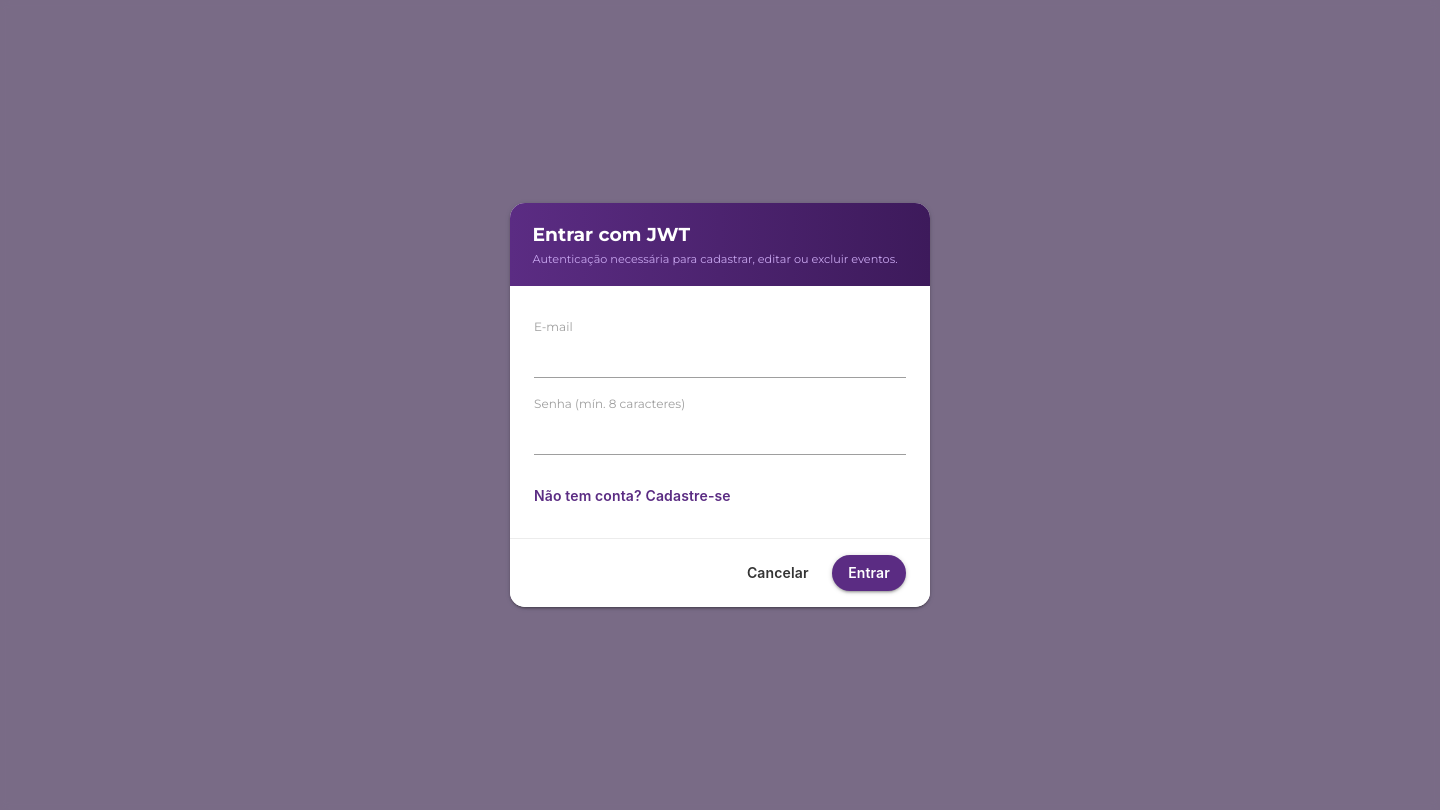
Scenario: AuthModal › exibe erro retornado pela API no login
The width and height of the screenshot is (1440, 810).
Type "lucas@ceub.edu.br" into the field labelled "E-mail" at (720, 355), box [534,332,906,378]
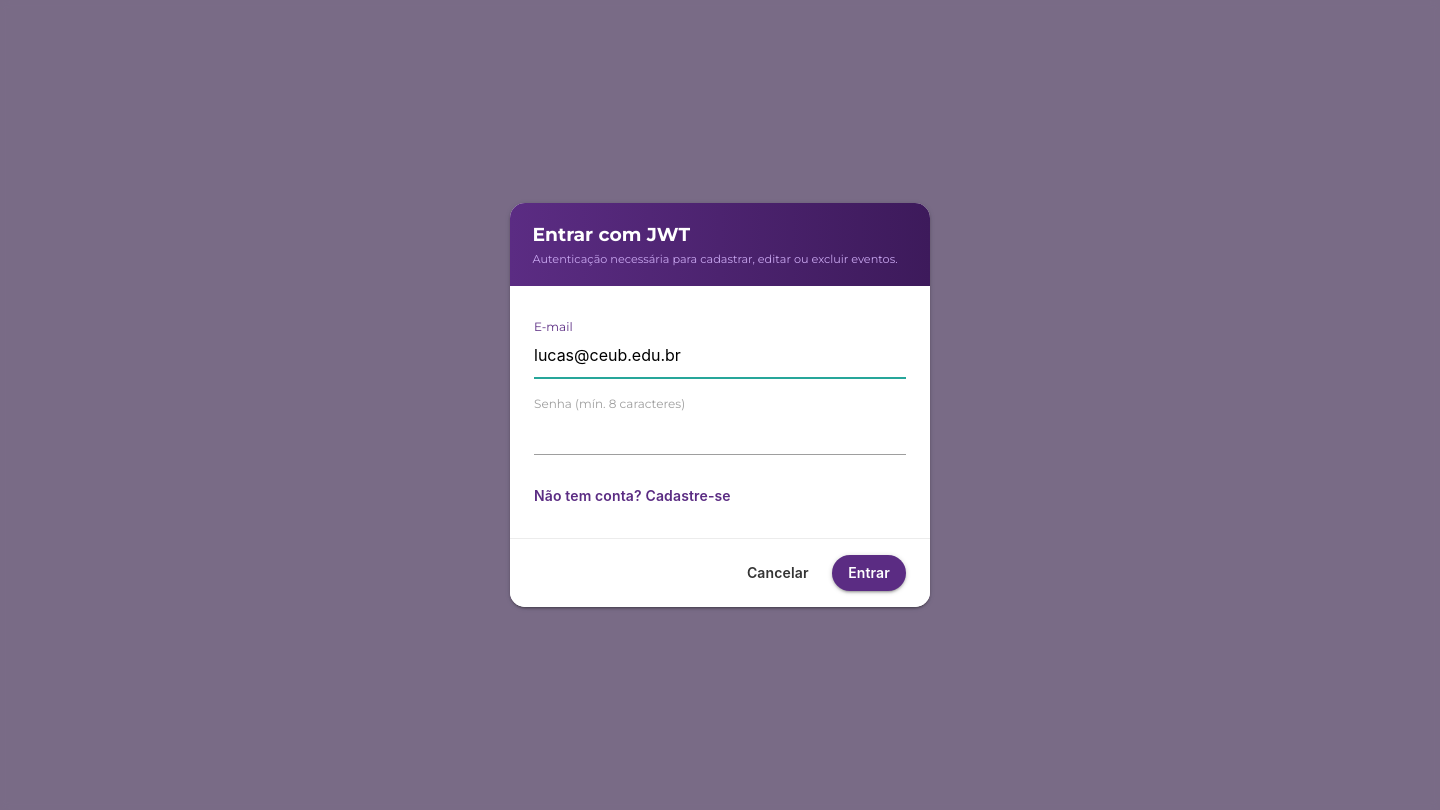
Type "Senha@1234" into the password field labelled "Senha (mín. 8 caracteres)" at (720, 432), box [534,409,906,455]
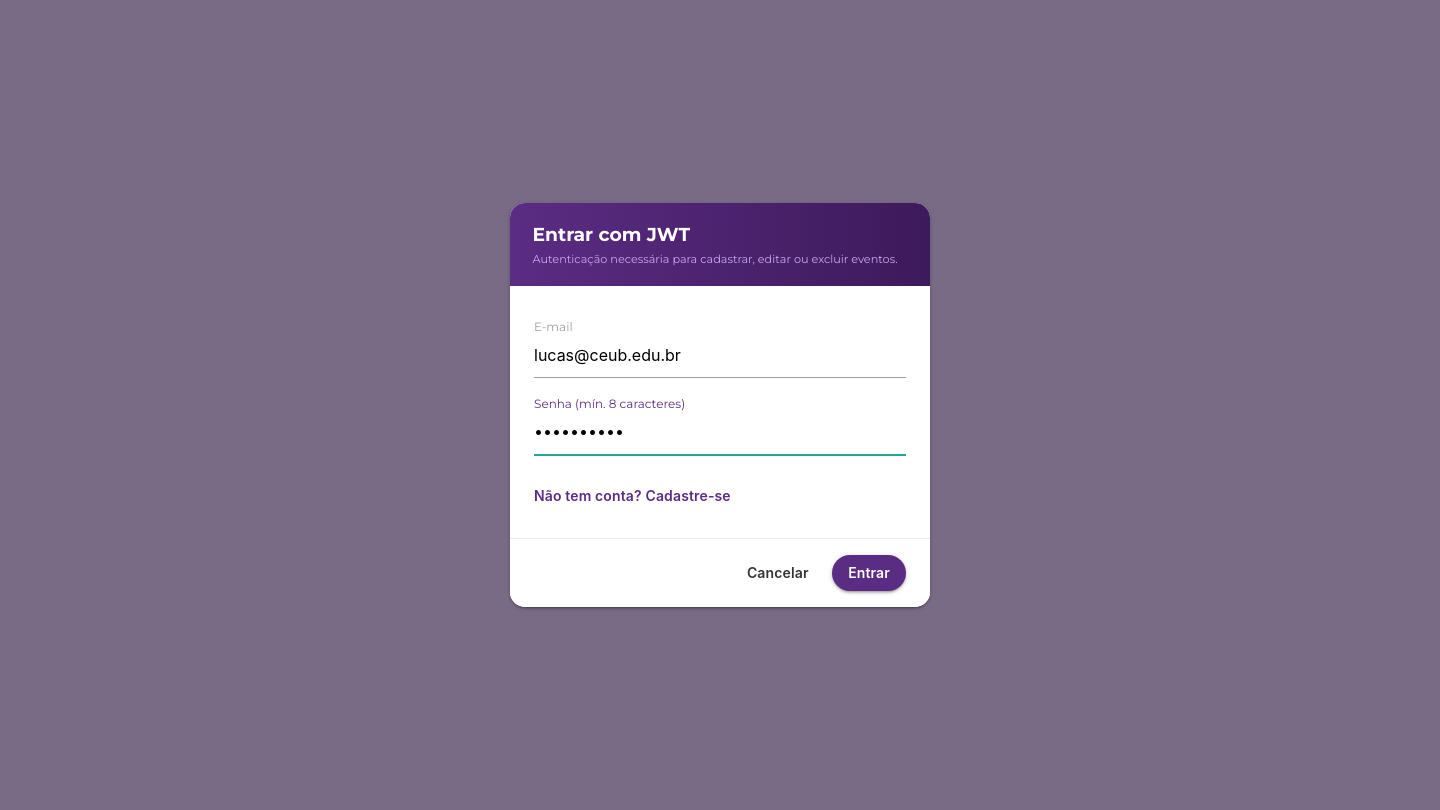
Click the button "Entrar" at (869, 573), box [832,555,906,591]
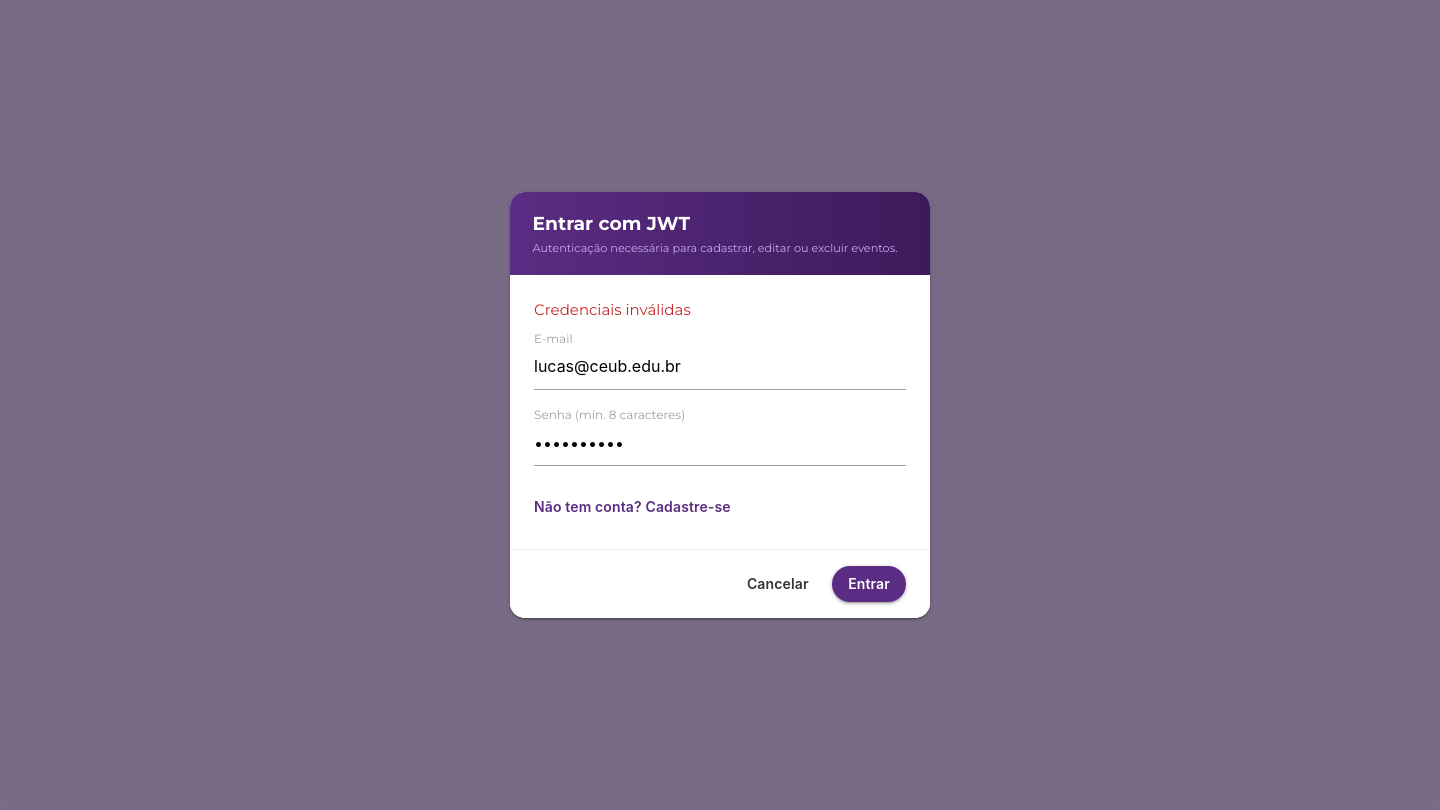
Expected: the message reads "Credenciais inválidas", [534,300,691,318]
